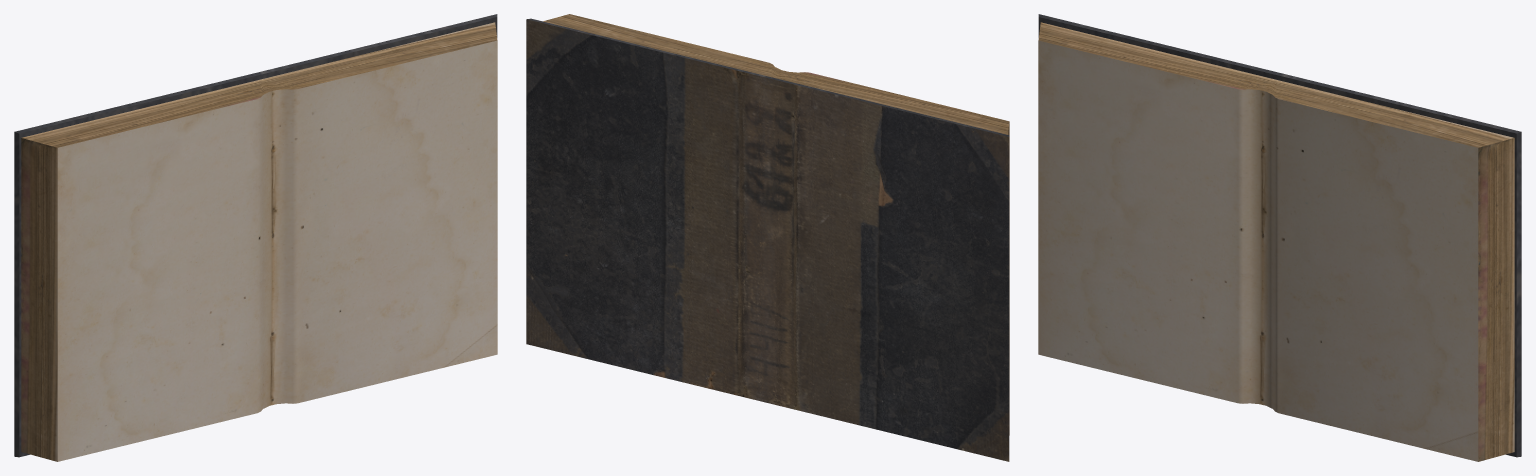
Rendered from MenuBook.fbx.
3 views of the same model, side by side, from view 1: azimuth 30°, elevation 25°; view 2: azimuth 150°, elevation 25°; view 3: azimuth 330°, elevation 25° (orthographic).
Parts seen in each view (by area): view 1: Cube; view 2: Cube; view 3: Cube.
Part boxes in pixels (x1,y1,x2,y2): Cube: (14,14,497,461); Cube: (526,14,1009,461); Cube: (1038,14,1521,461).
Bounding box in the file's own units: 166 × 106 × 12.88.
